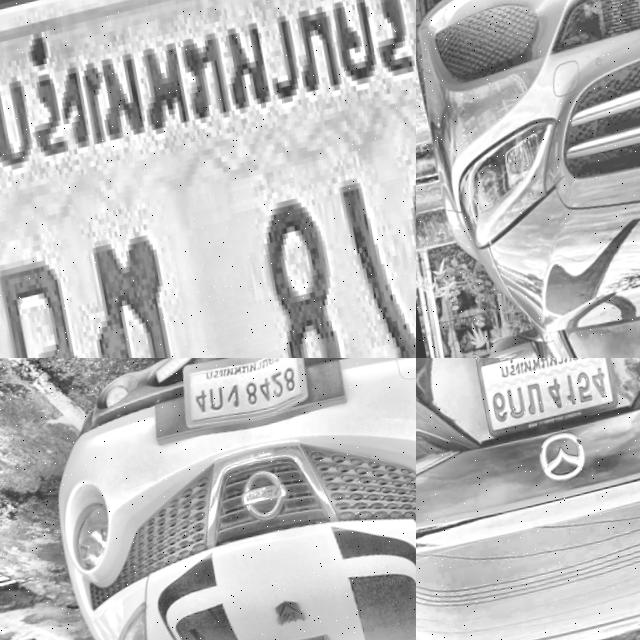license-plate: (0, 0, 416, 358), (471, 358, 615, 445), (174, 358, 312, 441)
